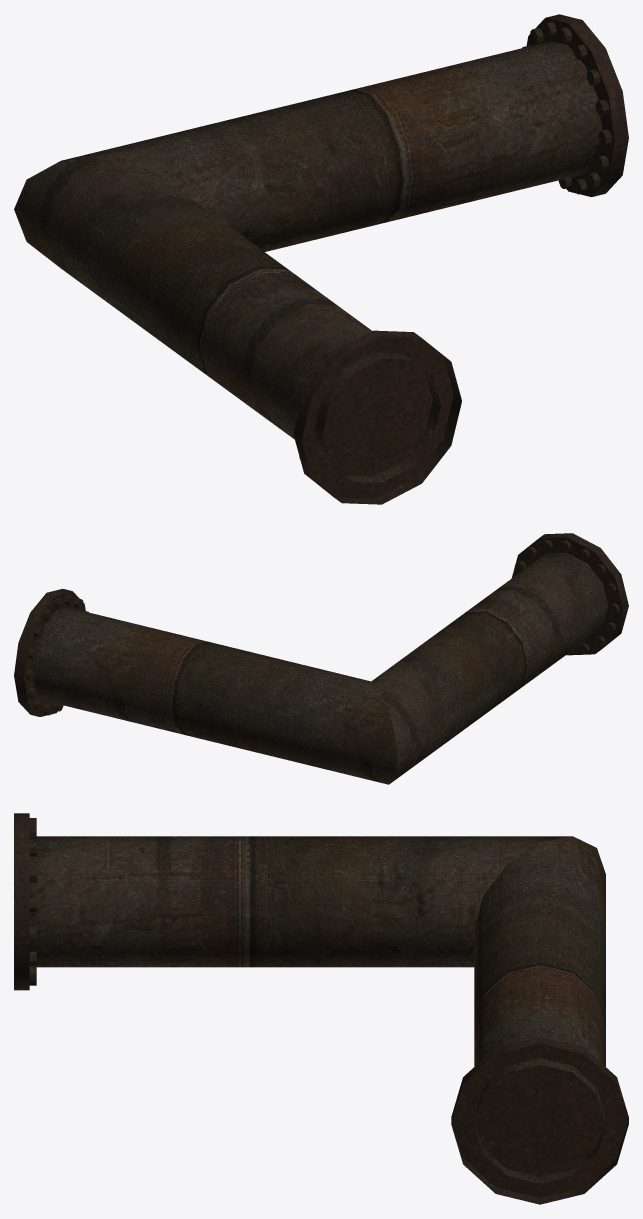
Rendered from pipe_bx_3.glb.
3 views of the same model, one above another, from view 1: azimuth 30°, elevation 25°; view 2: azimuth 150°, elevation 25°; view 3: azimuth 270°, elevation 25° (orthographic). The views are drawn at different scales.
Visible parts, largest first — view 1: pipe_bx_3; view 2: pipe_bx_3; view 3: pipe_bx_3.
Part boxes in pixels (<box>): pipe_bx_3: <box>14,14,628,504</box>; pipe_bx_3: <box>14,533,628,784</box>; pipe_bx_3: <box>14,813,628,1204</box>.
Size of the model in its own units: 2.34 by 0.676 by 2.34.
2 materials, 2 textured.
